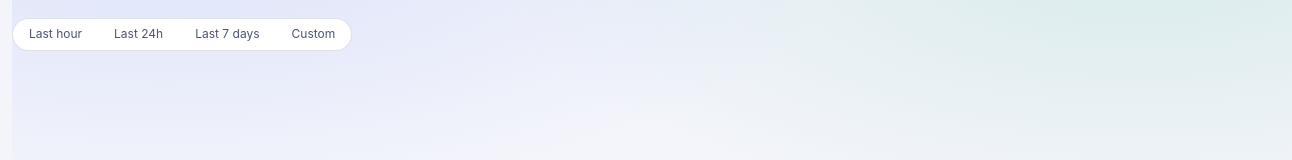
Test: TimeRangeFilter › reveals a Custom since/until form only after the Custom button is activated
The width and height of the screenshot is (1292, 160).
expect the field labelled "Since" is not shown: met
Click the button "Custom": (313, 34) [276, 19, 351, 50]
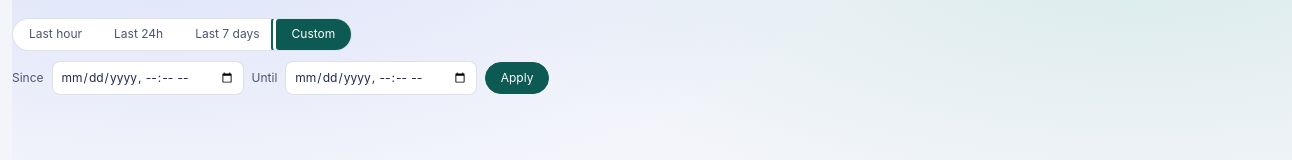
expect the field labelled "Since" is shown: met, box [52, 61, 244, 95]
expect the field labelled "Until" is shown: met, box [285, 61, 477, 95]
